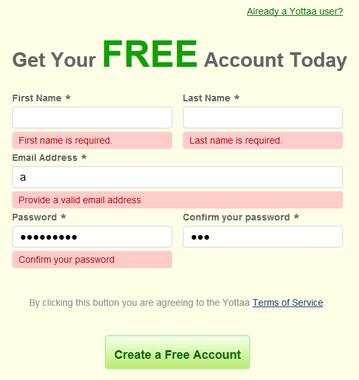error_message: (17, 194, 142, 206), (16, 253, 117, 266), (17, 134, 115, 146), (188, 135, 283, 147)
